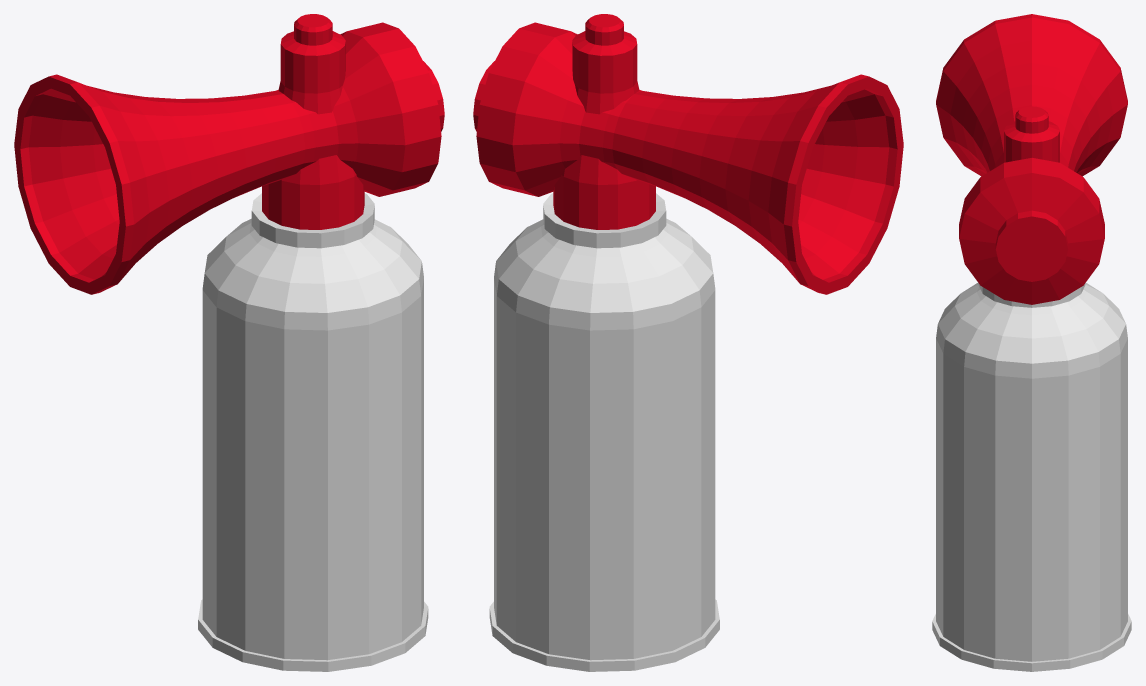
Rendered from item_airhorn.fbx.
3 renders of one model, left to right at view 1: azimuth 30°, elevation 25°; view 2: azimuth 150°, elevation 25°; view 3: azimuth 270°, elevation 25°, orthographic. The views are drawn at different scales.
Parts seen in each view (by area): view 1: airhorn; view 2: airhorn; view 3: airhorn.
Boxes of the visible parts, left/top/right/bottom form: airhorn: left=14, top=14, right=444, bottom=671; airhorn: left=473, top=14, right=903, bottom=671; airhorn: left=932, top=14, right=1131, bottom=671.
Bounding box in the file's own units: 52.61 × 85.66 × 29.92.
